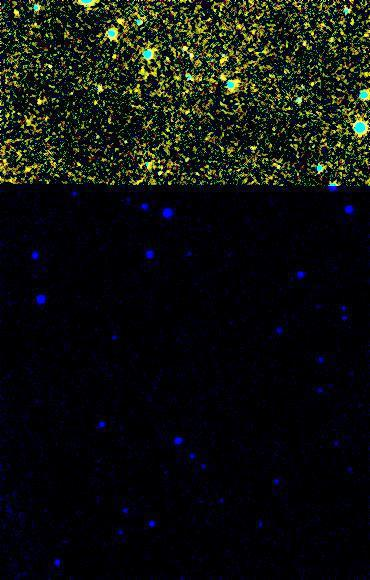star: (204, 44, 234, 74)
